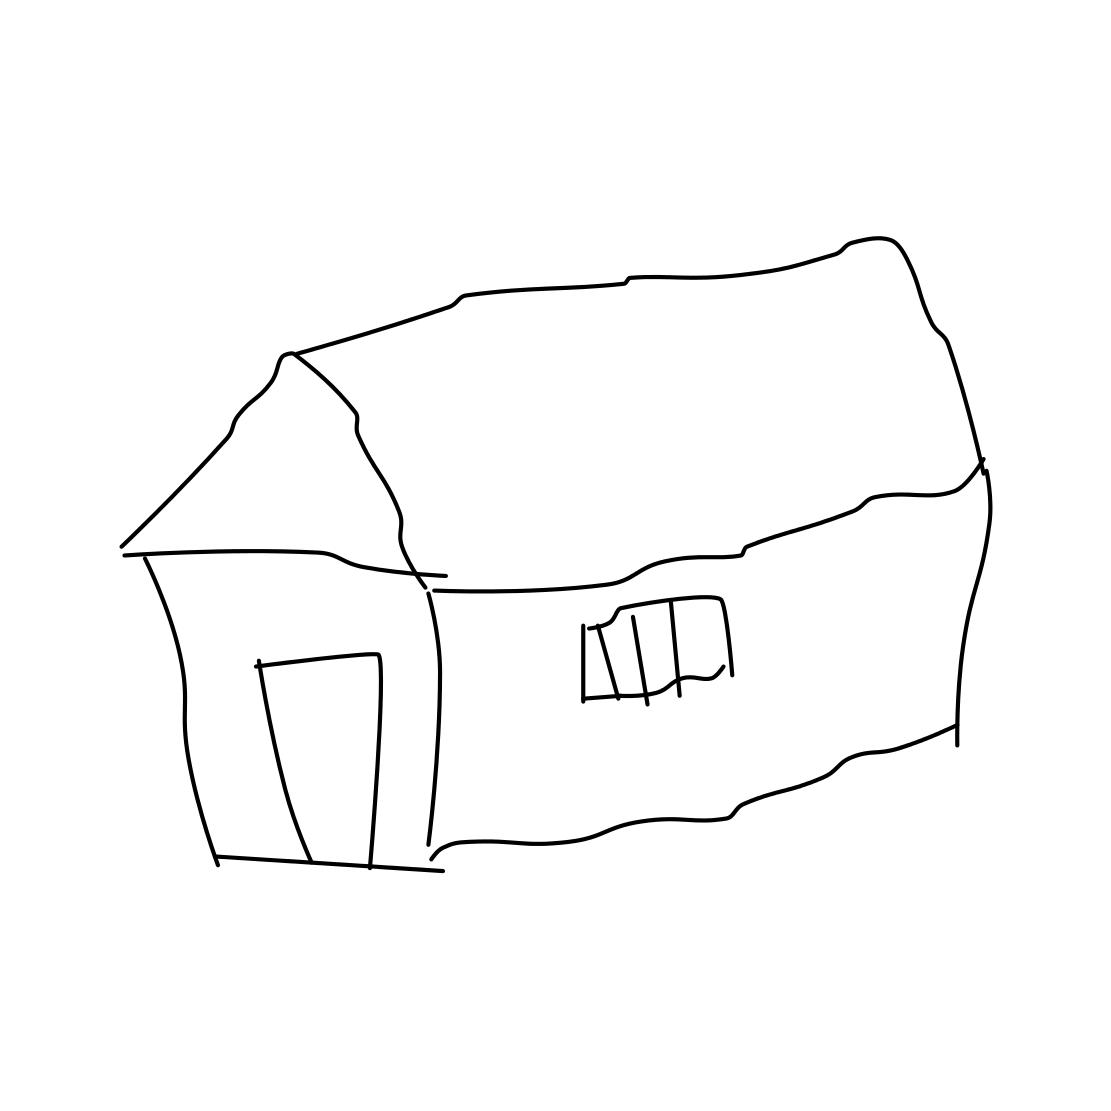House: (73, 204, 1032, 887)
